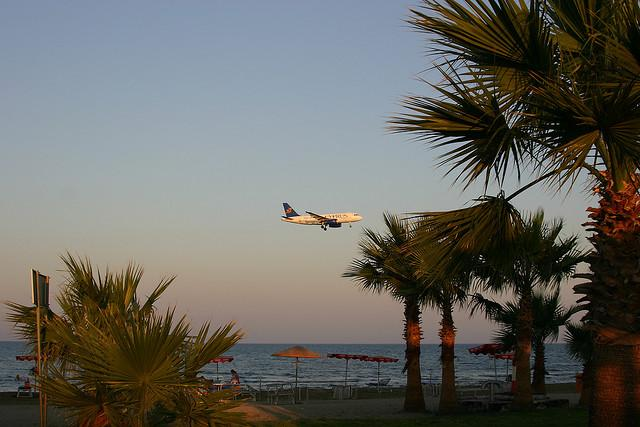airplane: (279, 201, 365, 232)
